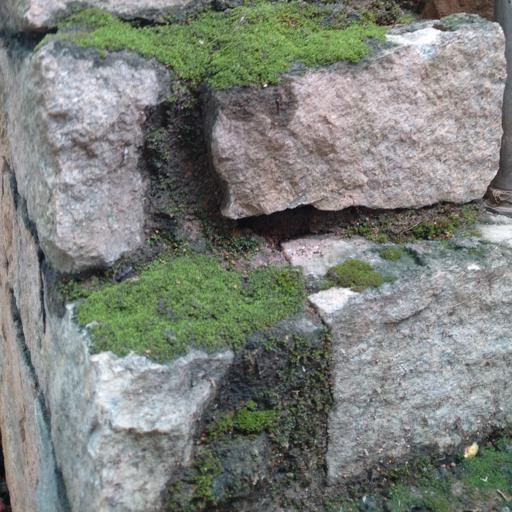algae: (64, 11, 439, 378)
